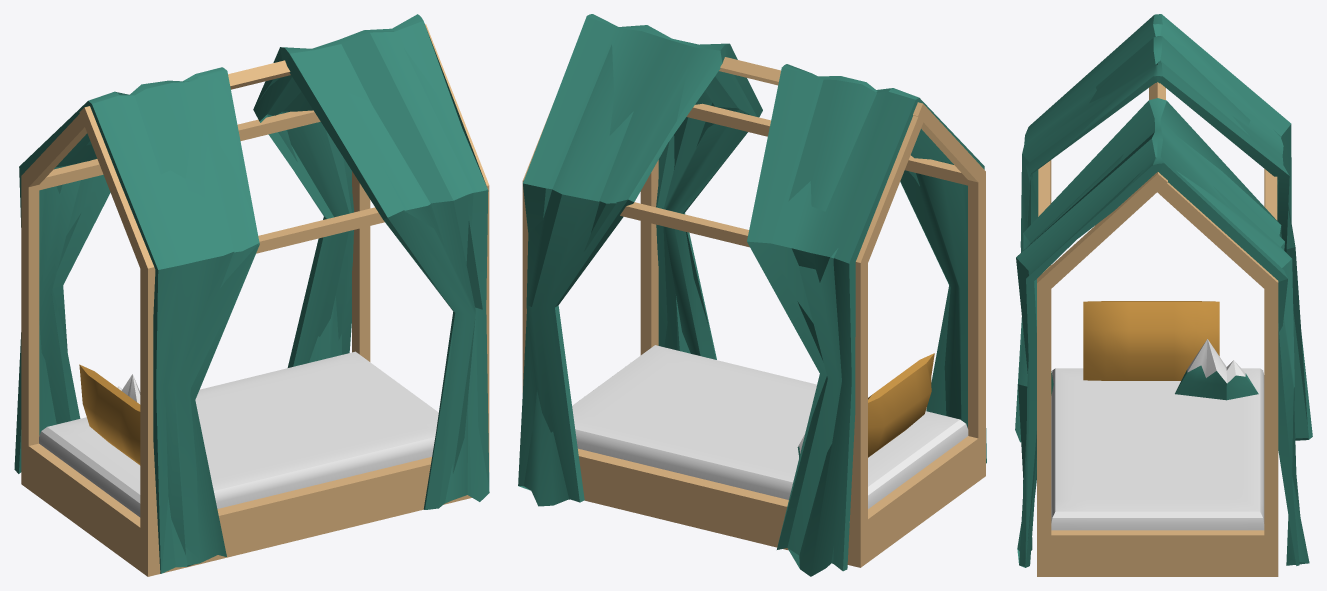
File: Furn1_bed_color1_joined.fbx
The picture shows the model from 3 angles, left to right: view 1: azimuth 30°, elevation 25°; view 2: azimuth 150°, elevation 25°; view 3: azimuth 270°, elevation 25°; orthographic projection. The views are drawn at different scales.
Parts seen in each view (by area): view 1: Плоскость.001; view 2: Плоскость.001; view 3: Плоскость.001.
Part boxes in pixels (x1,y1,x2,y2): Плоскость.001: (14, 14, 489, 576); Плоскость.001: (518, 14, 986, 576); Плоскость.001: (1015, 14, 1312, 576).
Size of the model in its own units: 358 by 441 by 284.
